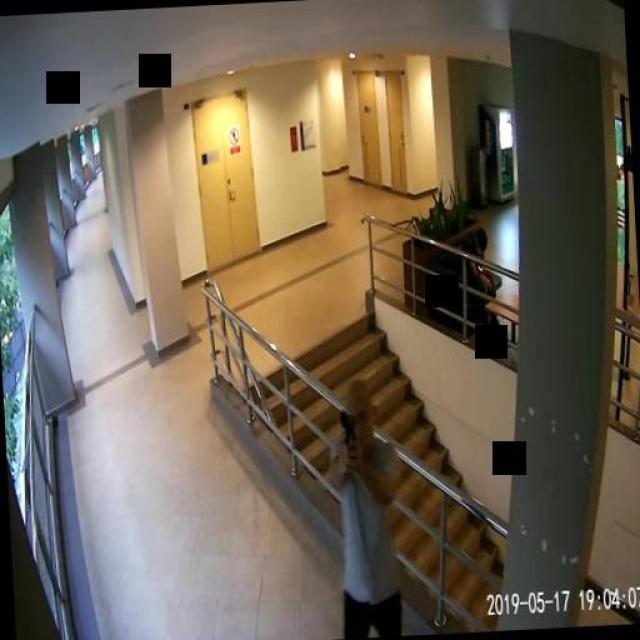gun: (336, 410, 356, 462)
